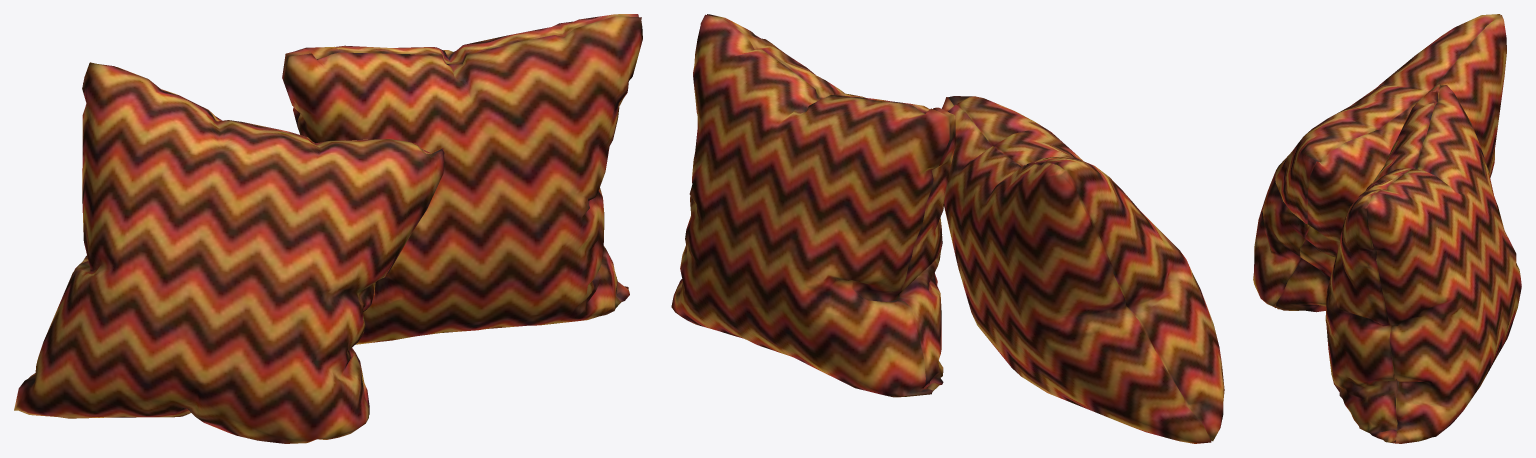
The model's file is throw_pillows_01.glb.
3 renders of one model, left to right at view 1: azimuth 30°, elevation 25°; view 2: azimuth 150°, elevation 25°; view 3: azimuth 270°, elevation 25°, orthographic. The views are drawn at different scales.
Parts seen in each view (by area): view 1: throw_pillows_01_pillow02; view 2: throw_pillows_01_pillow02; view 3: throw_pillows_01_pillow02.
Boxes of the visible parts, box(x1,y1,x2,y2) form: throw_pillows_01_pillow02: box(14, 14, 642, 443); throw_pillows_01_pillow02: box(671, 14, 1224, 443); throw_pillows_01_pillow02: box(1253, 14, 1521, 443).
Size of the model in its own units: 0.9401 by 0.45 by 0.4519.
1 material, 1 textured.
